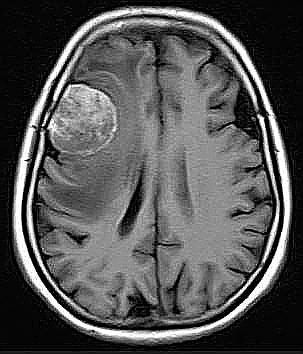Tumor: (48, 81, 117, 158)
